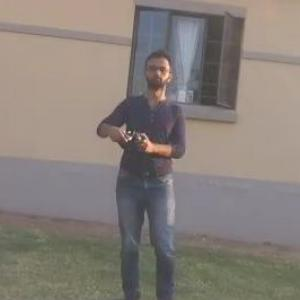follow: (92, 43, 196, 299)
